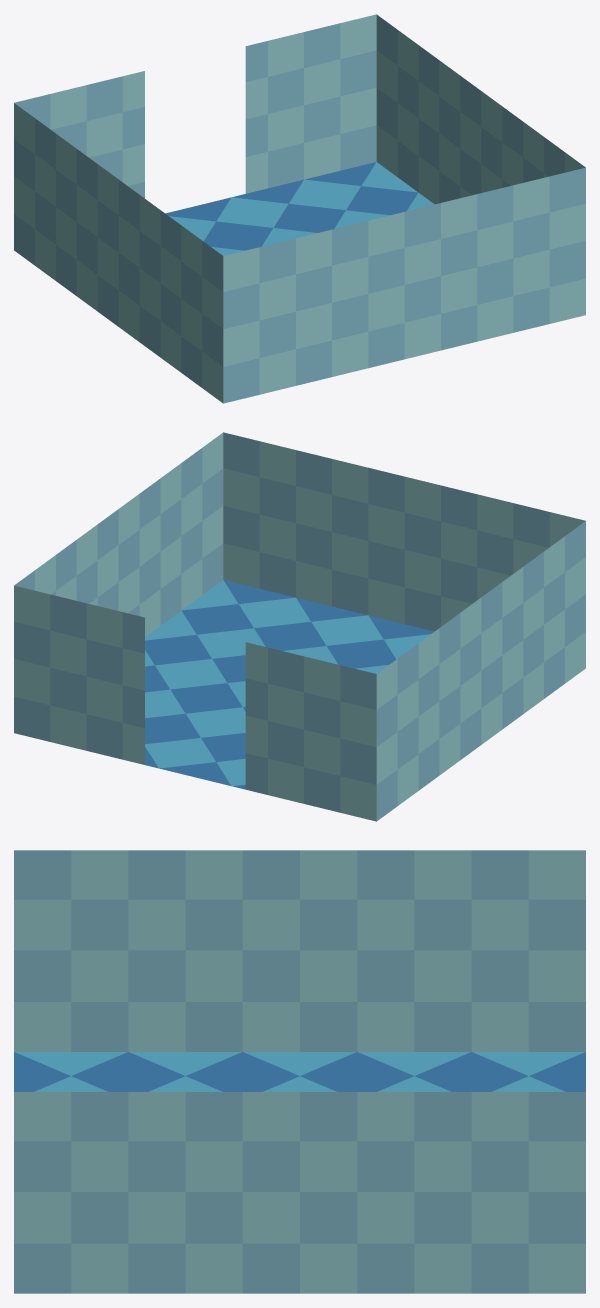
Rendered from Toilet.fbx.
3 renders of one model, top to bottom at view 1: azimuth 30°, elevation 25°; view 2: azimuth 150°, elevation 25°; view 3: azimuth 270°, elevation 25°, orthographic. The views are drawn at different scales.
Visible parts, largest first — view 1: ToiletInside; view 2: ToiletInside; view 3: ToiletInside.
Boxes of the visible parts, bbox=[...] form: ToiletInside: bbox=[14, 14, 585, 403]; ToiletInside: bbox=[14, 432, 585, 821]; ToiletInside: bbox=[14, 850, 585, 1293].
Size of the model in its own units: 540 by 210 by 540.
